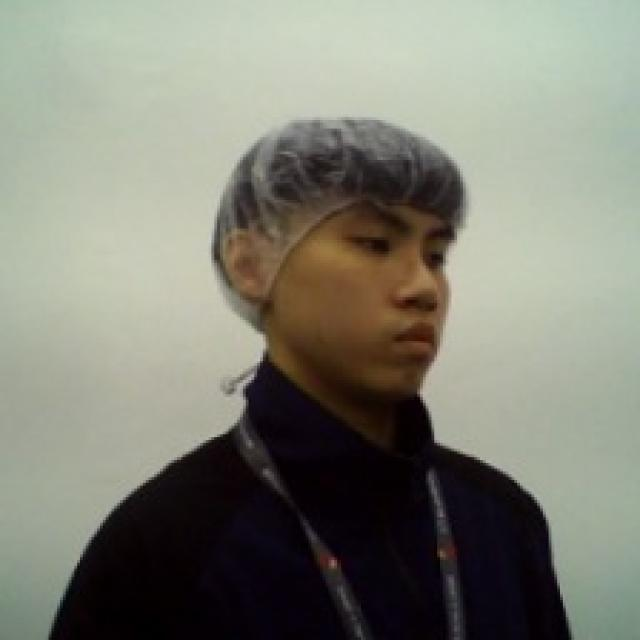gloves: (206, 106, 468, 342)
no_hairnet: (216, 218, 459, 400)
